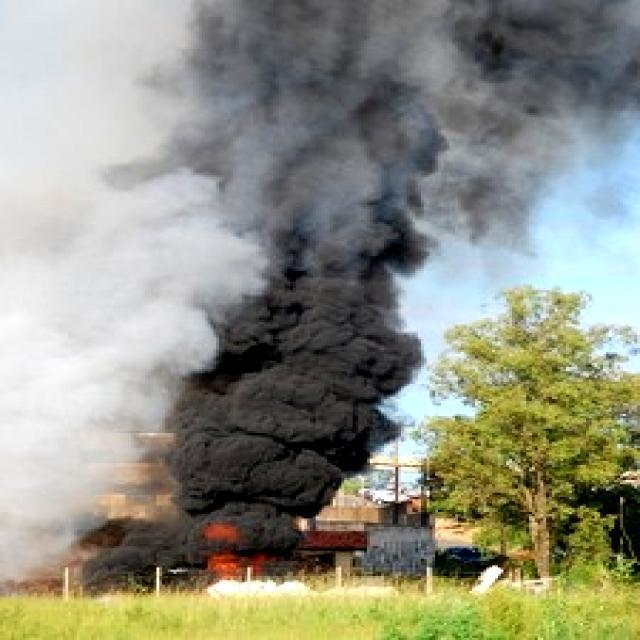Smoke: (84, 0, 640, 549)
